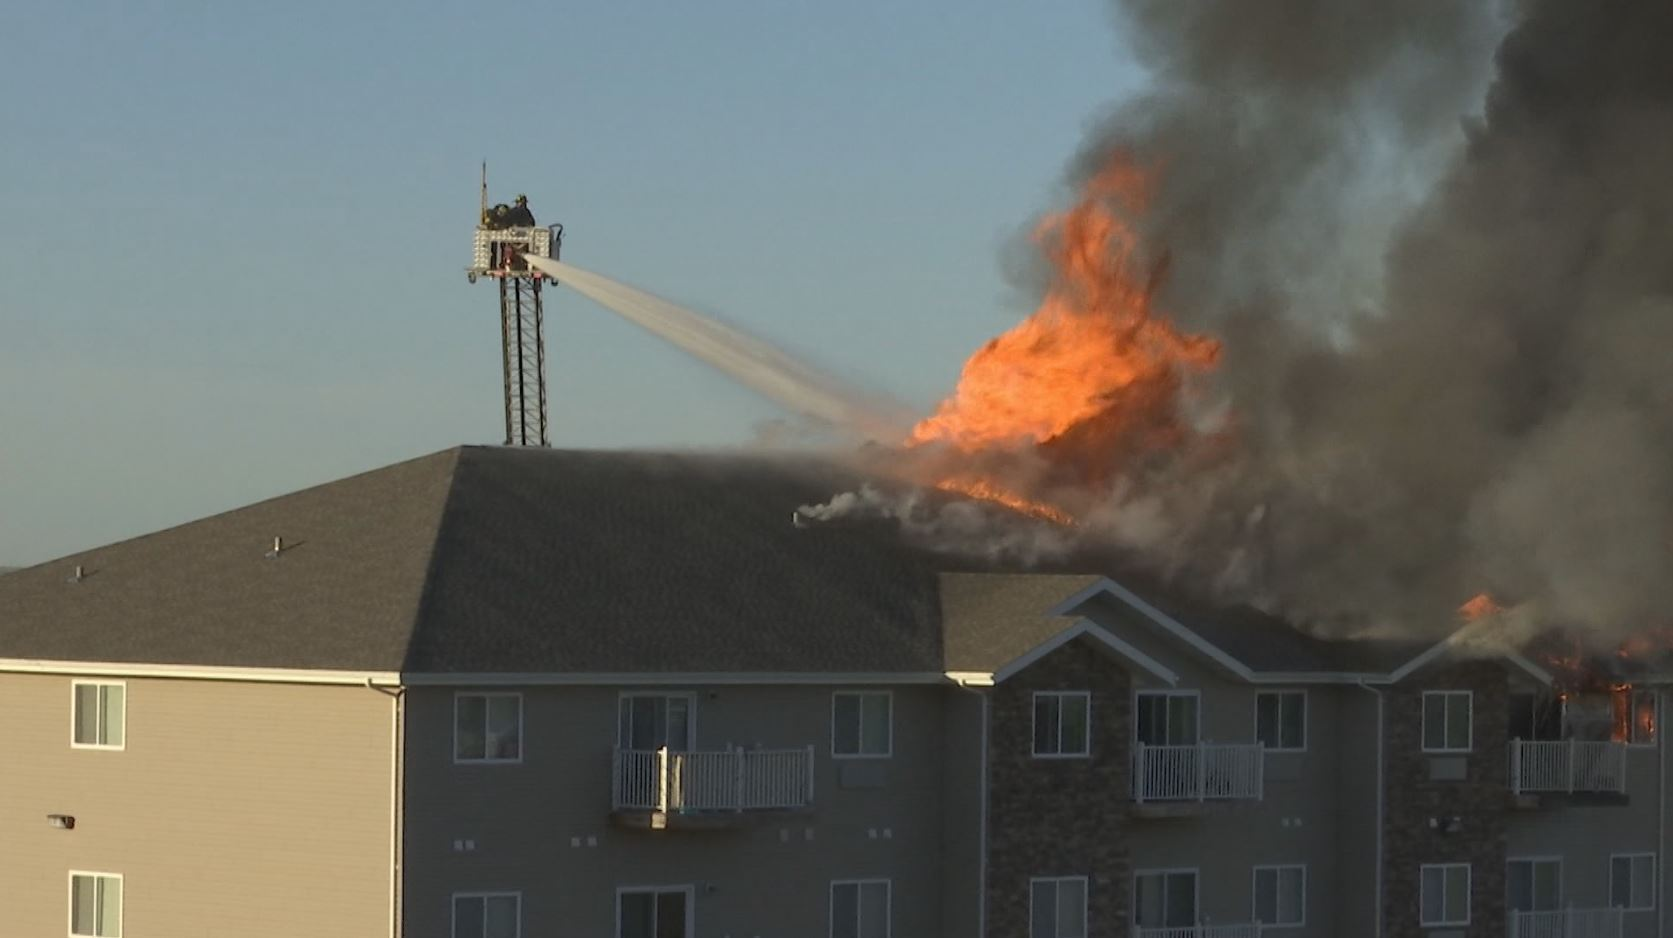smoke: (1013, 1, 1672, 649)
